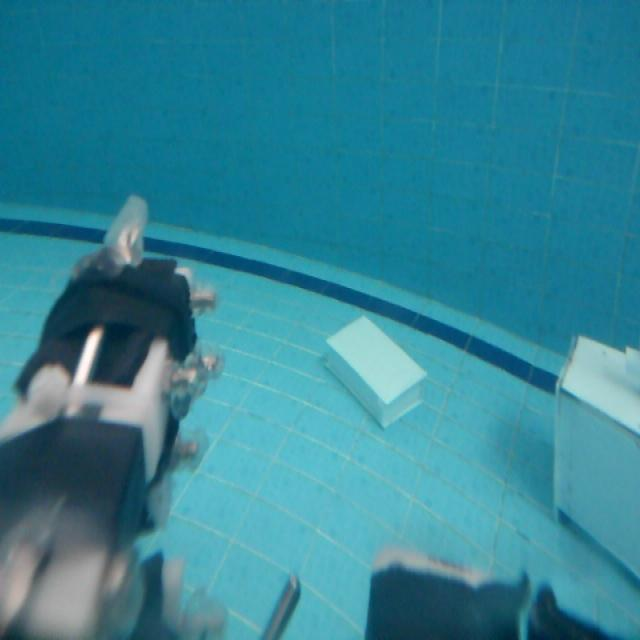Cube: (544, 327, 640, 590)
Cuboid: (322, 311, 428, 429)
